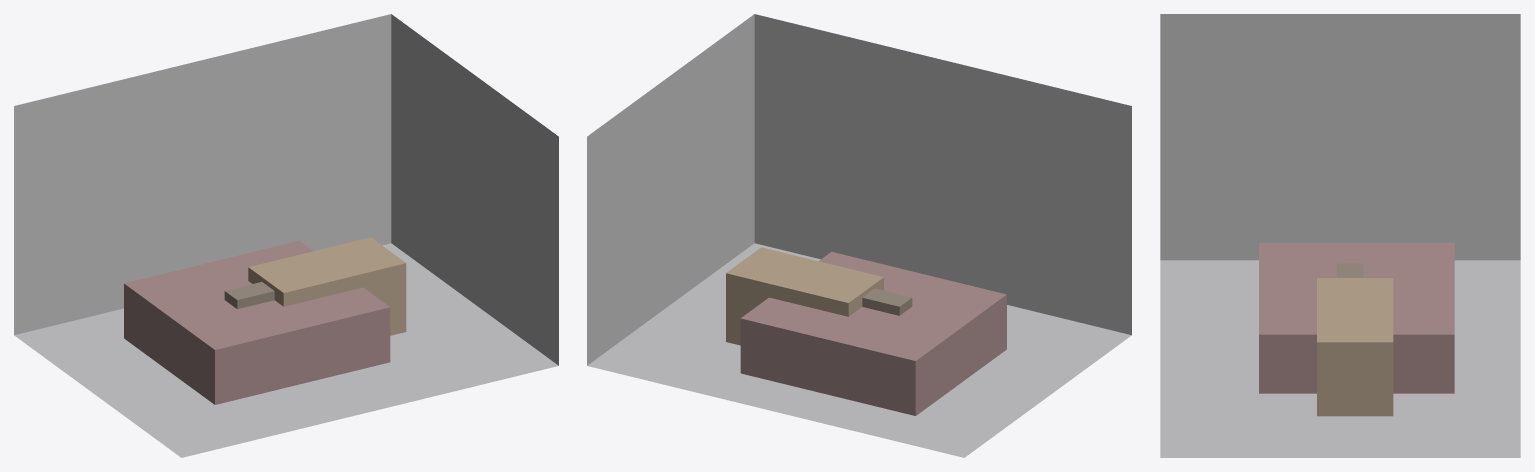
The model's file is optimised_layout.glb.
The picture shows the model from 3 angles, left to right: view 1: azimuth 30°, elevation 25°; view 2: azimuth 150°, elevation 25°; view 3: azimuth 270°, elevation 25°; orthographic projection. The views are drawn at different scales.
Visible parts, largest first — view 1: room, bed, desk, suitcase; view 2: room, bed, desk, suitcase; view 3: room, bed, desk, suitcase.
Part boxes in pixels (x1,y1,x2,y2): room: [14, 14, 558, 457]; bed: [124, 241, 390, 404]; desk: [248, 237, 406, 335]; suitcase: [224, 282, 274, 309]; room: [587, 14, 1131, 457]; bed: [740, 252, 1006, 415]; desk: [726, 247, 883, 345]; suitcase: [862, 288, 912, 315]; room: [1160, 14, 1520, 457]; bed: [1259, 242, 1454, 393]; desk: [1317, 278, 1393, 416]; suitcase: [1336, 263, 1363, 277].
Size of the model in its own units: 4.31 by 2.5 by 3.31.
